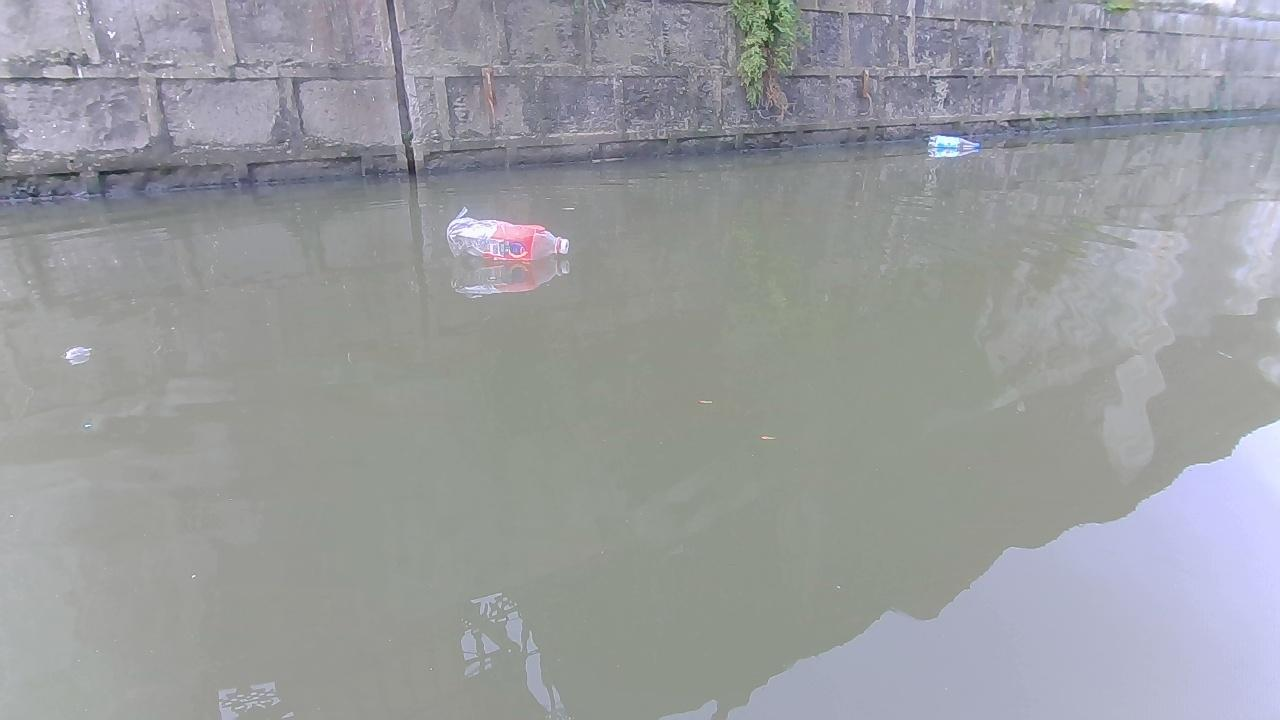bottle: (446, 214, 567, 259), (926, 133, 981, 152)
